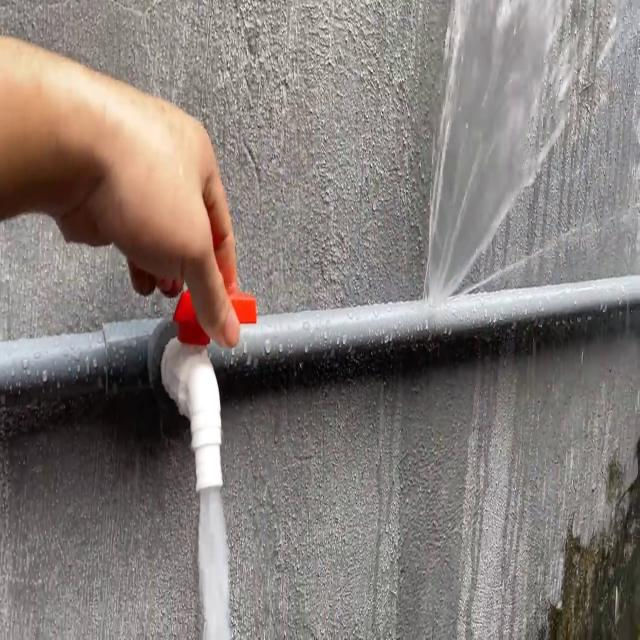leak: (422, 0, 640, 313)
